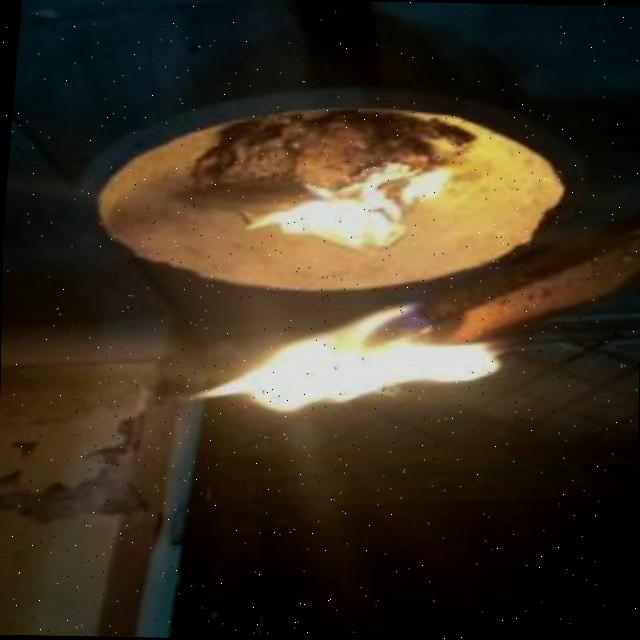fire: (189, 305, 503, 439), (242, 161, 462, 257)
